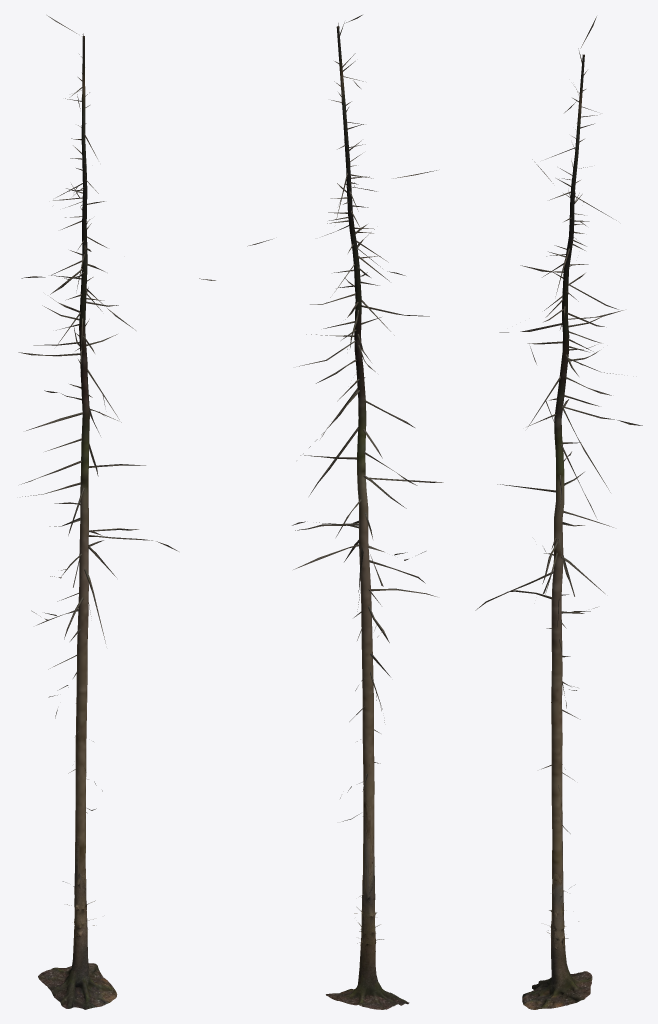
The model's file is fir_a.glb.
3 renders of one model, left to right at view 1: azimuth 30°, elevation 25°; view 2: azimuth 150°, elevation 25°; view 3: azimuth 270°, elevation 25°, orthographic. The views are drawn at different scales.
Parts seen in each view (by area): view 1: lod0; view 2: lod0; view 3: lod0.
Boxes of the visible parts, box(x1,y1,x2,y2) form: lod0: box(18, 15, 215, 1009); lod0: box(247, 15, 443, 1009); lod0: box(475, 16, 642, 1009).
Size of what is drawn, in the model's own units: 3.59 by 18.01 by 2.83.
2 materials, 2 textured.
